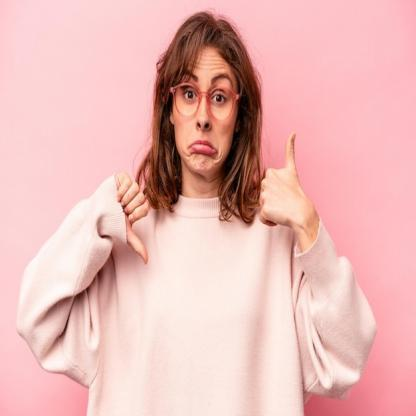thumb_down: (102, 168, 154, 268)
thumb_up: (254, 128, 305, 232)
